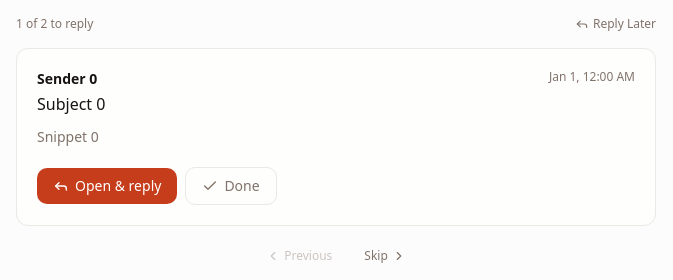
Test: ReplyLaterFocus › clears the current item on Done and advances to the next
Click the button "Done": x=231, y=186 [185,167,277,205]
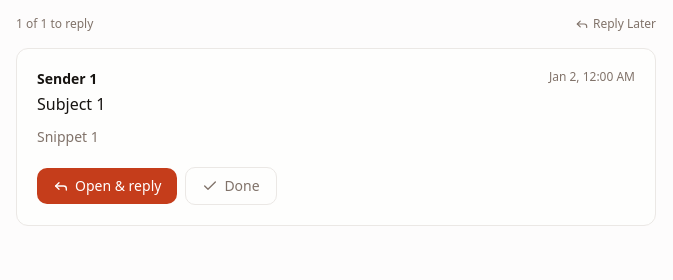
Expected: the text "1 of 1 to reply" is shown, [16,16,93,32]
Expected: the heading "Subject 1" is shown, [37,93,105,115]
